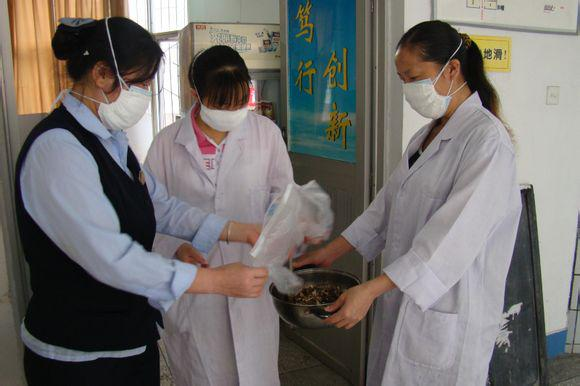OK: (88, 52, 154, 126), (400, 67, 455, 123), (198, 90, 247, 133)
